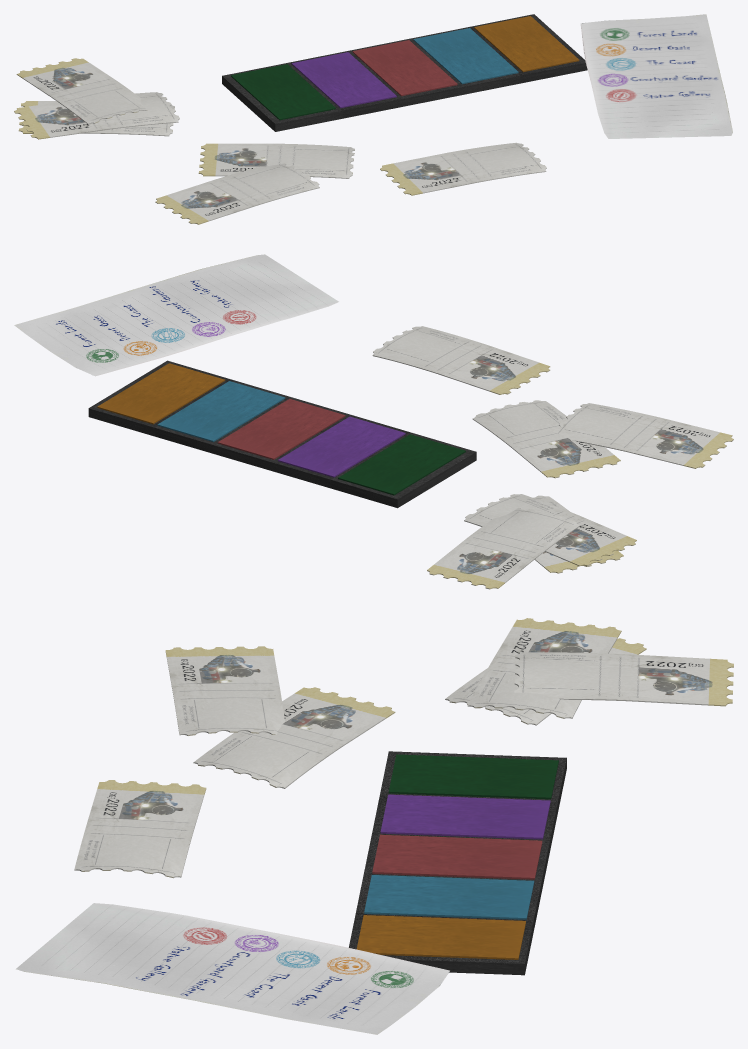
File: Ticket_Driving_Station.FBX
3 renders of one model, top to bottom at view 1: azimuth 30°, elevation 25°; view 2: azimuth 150°, elevation 25°; view 3: azimuth 270°, elevation 25°, orthographic. The views are drawn at different scales.
Visible parts, largest first — view 1: Plane001, Box2615, Box2624, Box2614, Box2623, Box001, Box2622, Box2620, Box2618, Box2616, Box2617, Box2619 (+1 smaller); view 2: Plane001, Box2615, Box2614, Box2623, Box2624, Box001, Box2622, Box2616, Box2617, Box2619, Box2618, Box2620 (+1 smaller); view 3: Plane001, Box2623, Box2624, Box2614, Box001, Box2615, Box2619, Box2618, Box2617, Box2616, Box2620, Box2622 (+1 smaller).
Boxes of the visible parts, box(x1,y1,x2,y2) form: Plane001: box(580, 14, 732, 138); Box2615: box(222, 14, 587, 131); Box2624: box(380, 142, 546, 195); Box2614: box(155, 163, 319, 224); Box2623: box(16, 58, 148, 124); Box001: box(198, 143, 354, 178); Box2622: box(14, 92, 179, 139); Box2620: box(474, 16, 579, 72); Box2618: box(352, 40, 457, 96); Box2616: box(231, 64, 335, 120); Box2617: box(291, 52, 396, 108); Box2619: box(413, 28, 518, 84); Plane001: box(14, 254, 338, 376); Box2615: box(88, 360, 476, 508); Box2614: box(553, 403, 733, 468); Box2623: box(427, 508, 579, 589); Box2624: box(372, 326, 550, 394); Box001: box(472, 400, 620, 478); Box2622: box(464, 494, 636, 566); Box2616: box(338, 434, 465, 495); Box2617: box(278, 416, 405, 477); Box2619: box(157, 381, 285, 442); Box2618: box(217, 398, 345, 459); Box2620: box(97, 363, 225, 424); Plane001: box(16, 903, 449, 1034); Box2623: box(514, 652, 733, 706); Box2624: box(74, 780, 206, 878); Box2614: box(165, 646, 284, 735); Box001: box(193, 687, 395, 788); Box2615: box(349, 751, 566, 975); Box2619: box(364, 875, 534, 919); Box2618: box(372, 834, 542, 879); Box2617: box(380, 794, 550, 839); Box2616: box(388, 754, 558, 799); Box2620: box(356, 915, 525, 959); Box2622: box(467, 618, 621, 718).
Bounding box in the file's own units: 139 × 3.56 × 98.12.
Materials: 8 (8 with a texture image).
